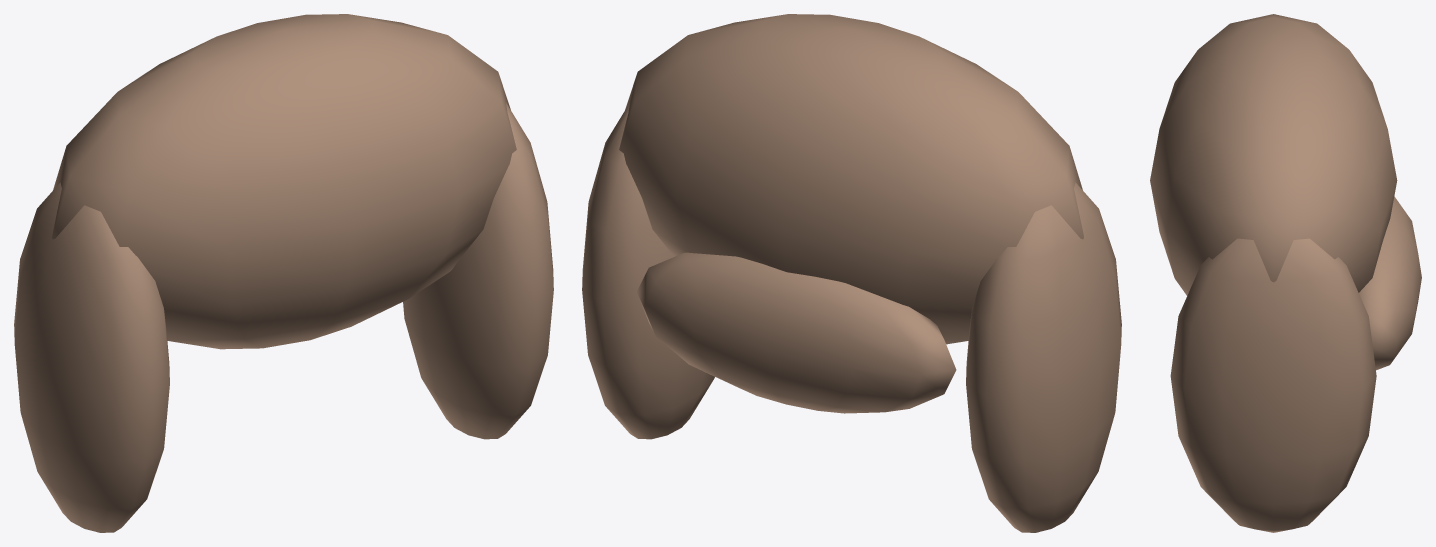
The model's file is hair-chibi-01.glb.
The picture shows the model from 3 angles, left to right: view 1: azimuth 30°, elevation 25°; view 2: azimuth 150°, elevation 25°; view 3: azimuth 270°, elevation 25°; orthographic projection. The views are drawn at different scales.
Visible parts, largest first — view 1: part_0, part_1, part_2; view 2: part_0, part_1, part_3, part_2; view 3: part_0, part_2, part_3.
Part boxes in pixels (box(x1,y1,x2,y2)): part_0: box(52, 14, 516, 349); part_1: box(14, 182, 169, 532); part_2: box(403, 103, 553, 439); part_0: box(619, 14, 1083, 344); part_1: box(966, 182, 1121, 532); part_3: box(637, 252, 956, 413); part_2: box(582, 103, 714, 439); part_0: box(1150, 14, 1397, 295); part_2: box(1170, 238, 1376, 532); part_3: box(1359, 196, 1421, 370).
Bounding box in the file's own units: 1.24 × 1.08 × 0.66.
